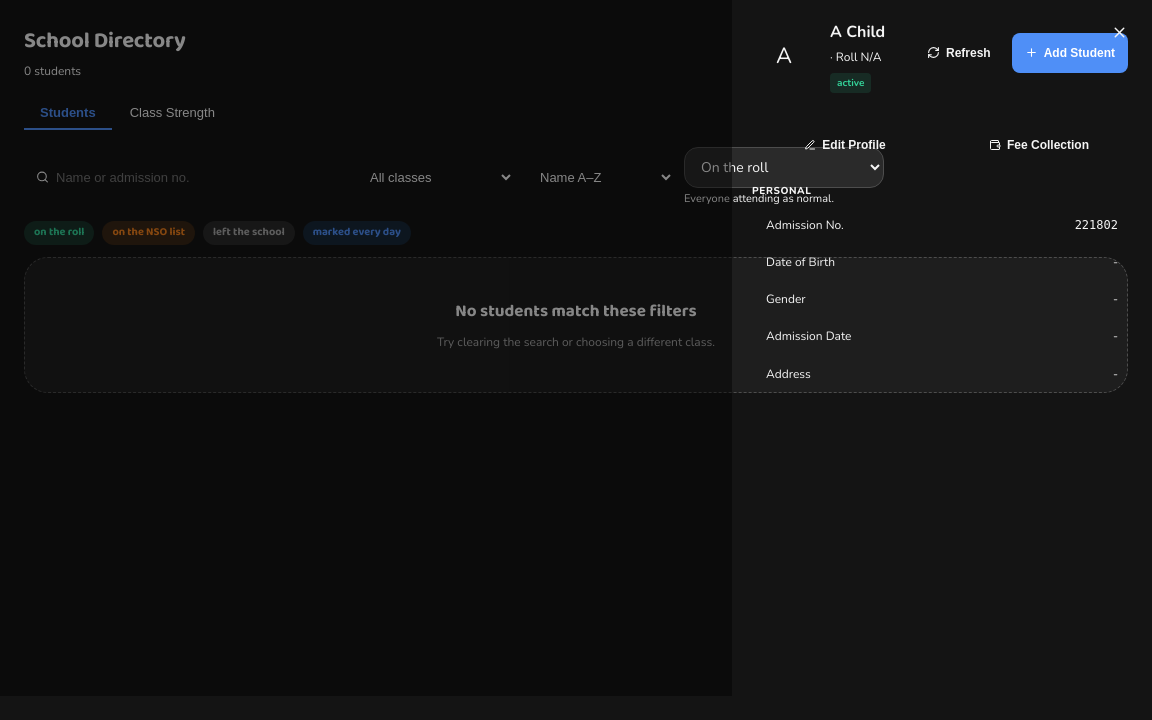
Scenario: a second, distinct quarter is summed separately in the Total row, not multiplied by row count
The image size is (1152, 720).
Click the button "Fee Collection" at [1039, 145], box [946,125,1132,165]
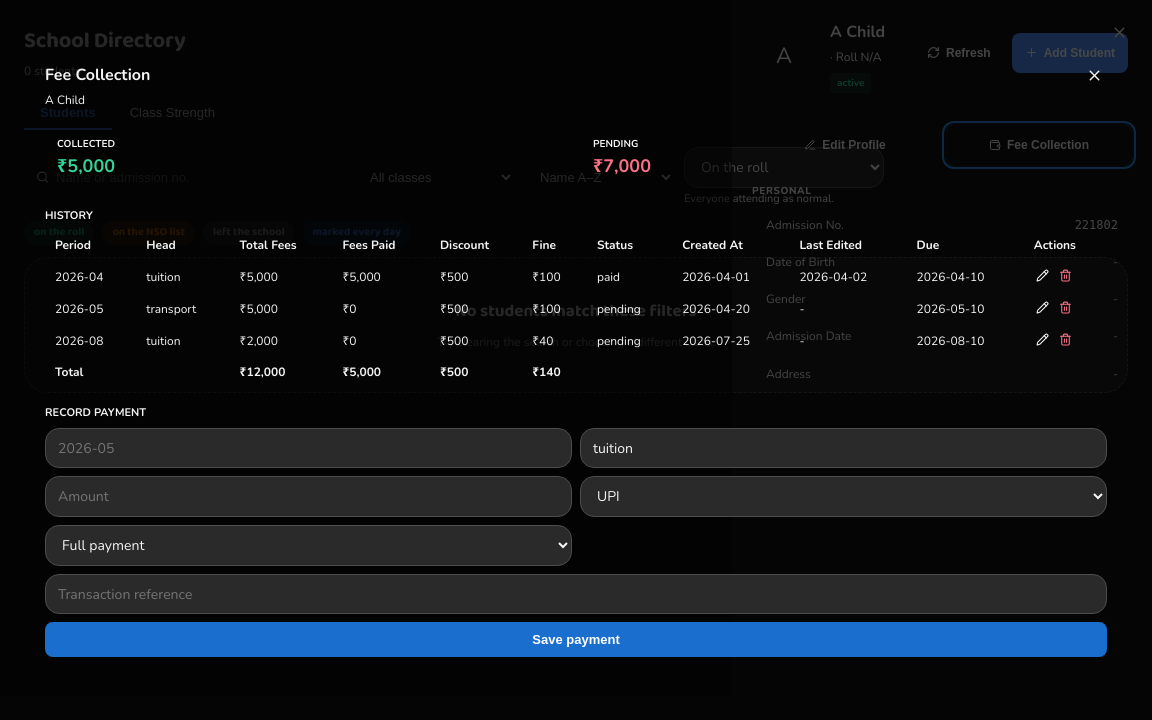
expect the element with test id "student-fee-panel" is shown: met
expect the row with test id "fee-history-total-row" shows "₹140": met, box [532,364,561,380]
